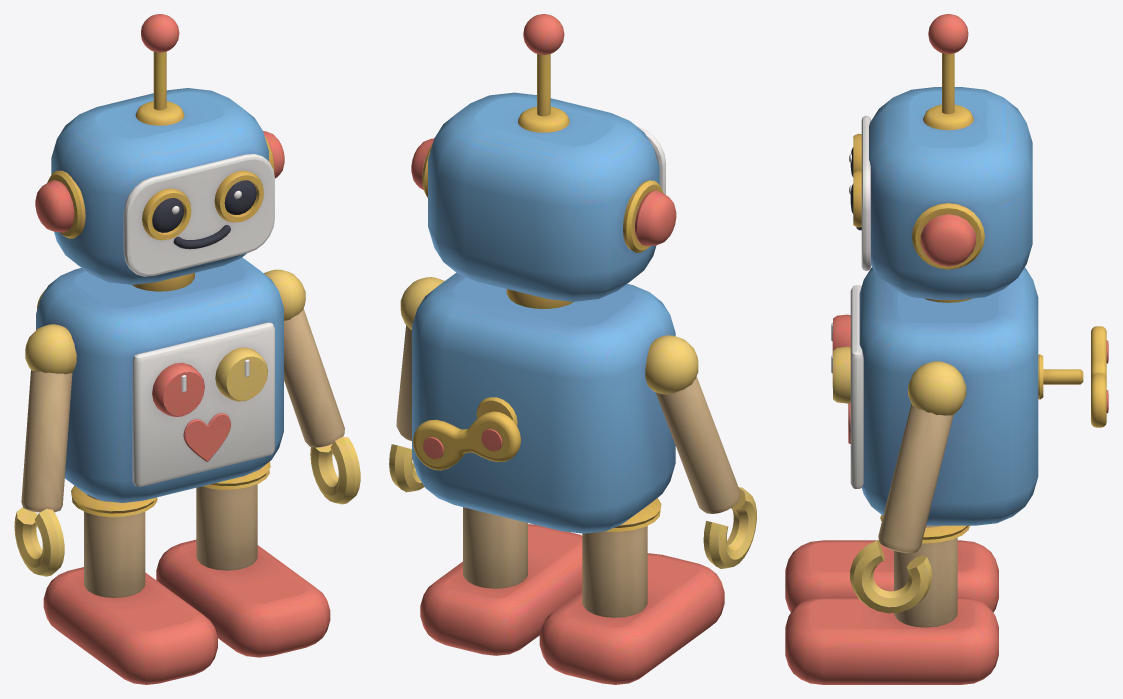
Rendered from robot_juguete.glb.
3 renders of one model, left to right at view 1: azimuth 30°, elevation 25°; view 2: azimuth 150°, elevation 25°; view 3: azimuth 270°, elevation 25°, orthographic. The views are drawn at different scales.
Parts seen in each view (by area): view 1: toy-robot_body; view 2: toy-robot_body; view 3: toy-robot_body.
Part boxes in pixels (x1,y1,x2,y2): toy-robot_body: (14, 14, 360, 684); toy-robot_body: (389, 14, 756, 684); toy-robot_body: (785, 14, 1108, 684).
Bounding box in the file's own units: 0.1359 × 0.2447 × 0.115.
2 materials, 2 textured.
